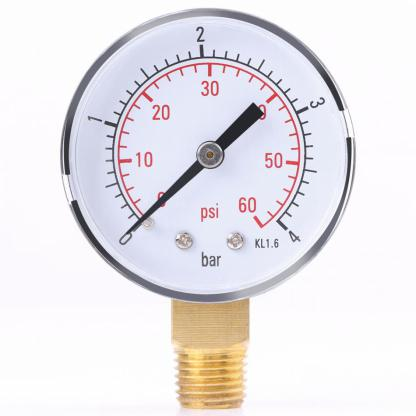needle: (125, 159, 206, 237)
